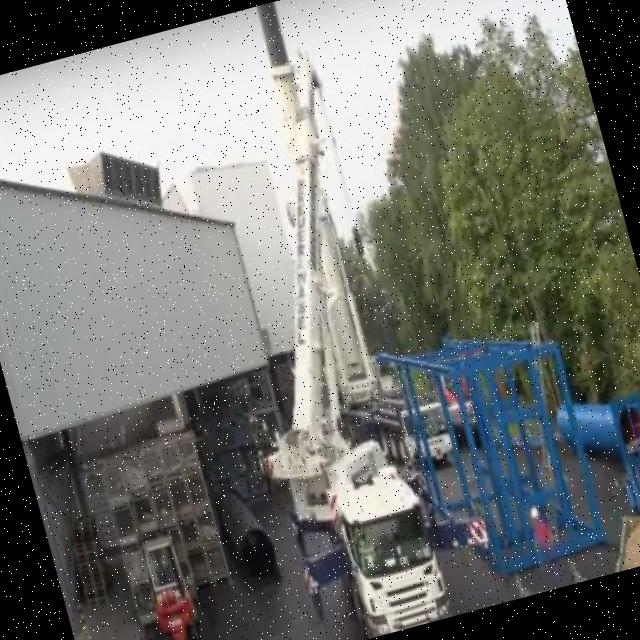Mobile Crane: (175, 41, 517, 640), (214, 0, 459, 493)
